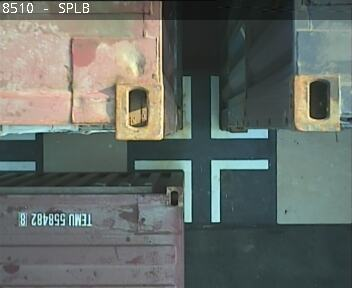groundmarker_1: (134, 158, 268, 223), (166, 74, 267, 138)
